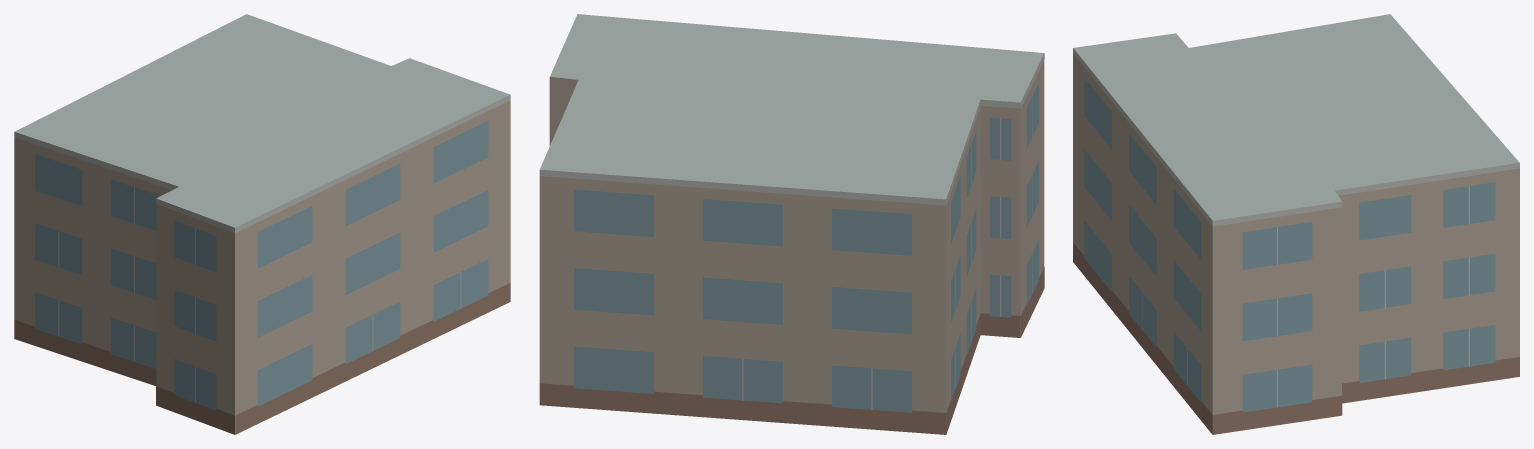
File: survey-upis-32925189.glb
The picture shows the model from 3 angles, left to right: view 1: azimuth 30°, elevation 25°; view 2: azimuth 150°, elevation 25°; view 3: azimuth 270°, elevation 25°; orthographic projection. The views are drawn at different scales.
Parts seen in each view (by area): view 1: survey-upis-32925189.tmp; view 2: survey-upis-32925189.tmp; view 3: survey-upis-32925189.tmp.
Part boxes in pixels (x1,y1,x2,y2): survey-upis-32925189.tmp: (14, 14, 510, 434); survey-upis-32925189.tmp: (539, 14, 1044, 434); survey-upis-32925189.tmp: (1073, 14, 1519, 434).
Bounding box in the file's own units: 18.98 × 9.15 × 17.32.
